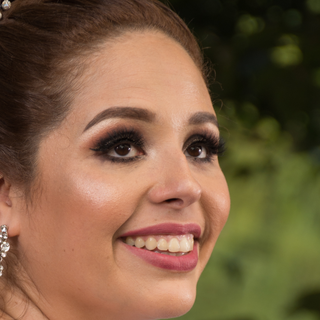eye: (92, 133, 143, 163), (181, 136, 222, 165)
